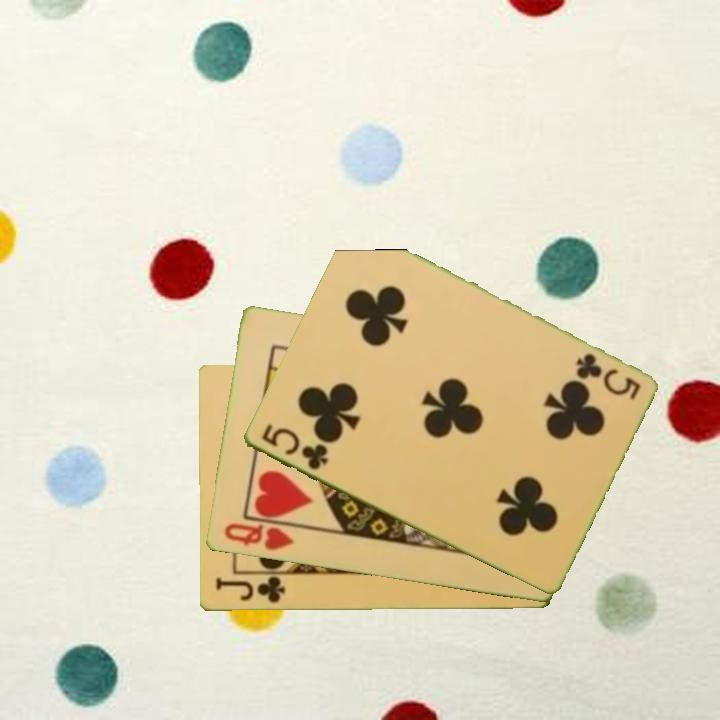5c: (257, 420, 331, 473), (572, 349, 643, 402)
Jc: (211, 573, 287, 607)
Qh: (220, 520, 296, 554)
